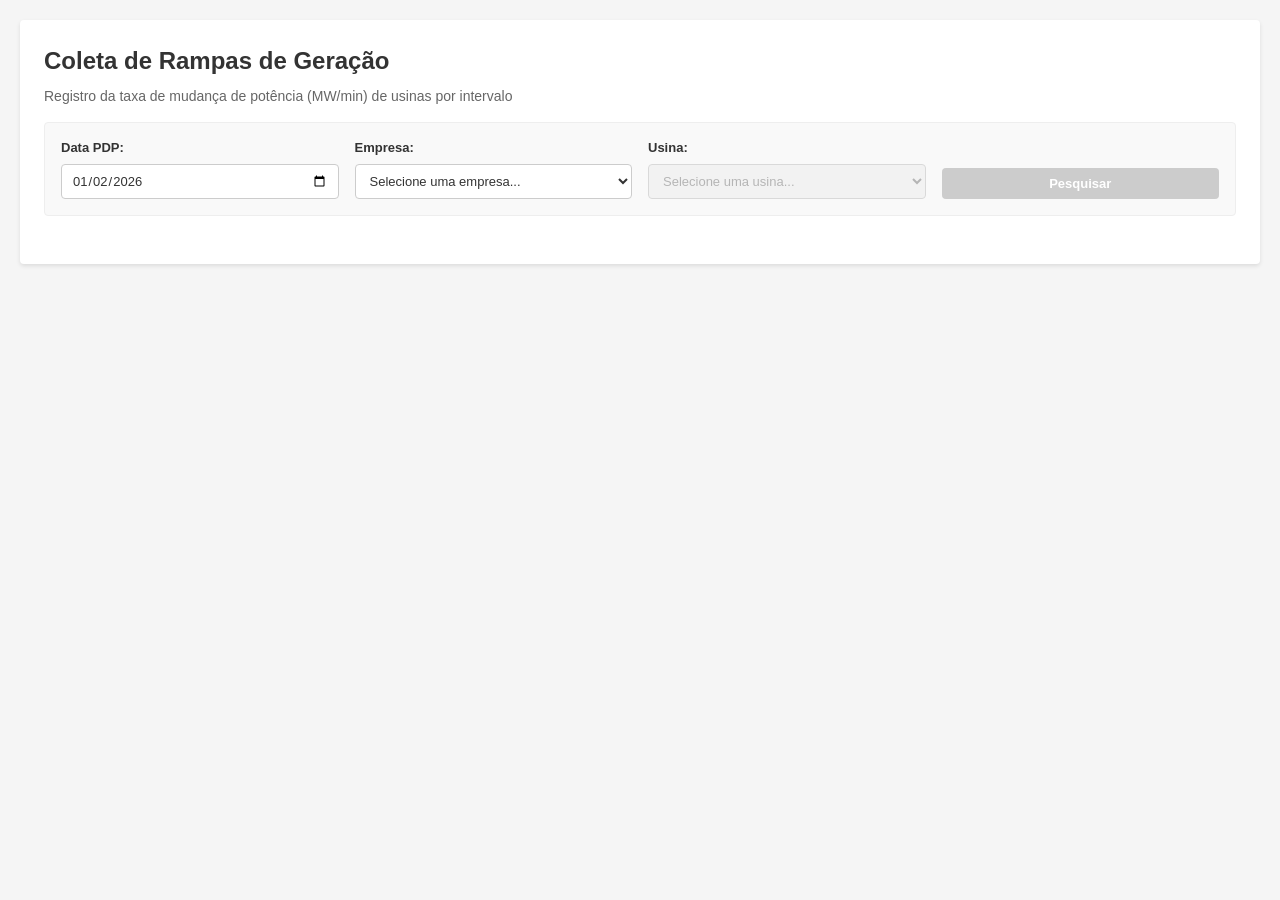
Test: Ramp Component › should allow editing values and update total/media
Setup and Search
Select "Empresa Geradora A" in the dropdown with test id "company-filter" at (493, 181), box [354,164,632,199]
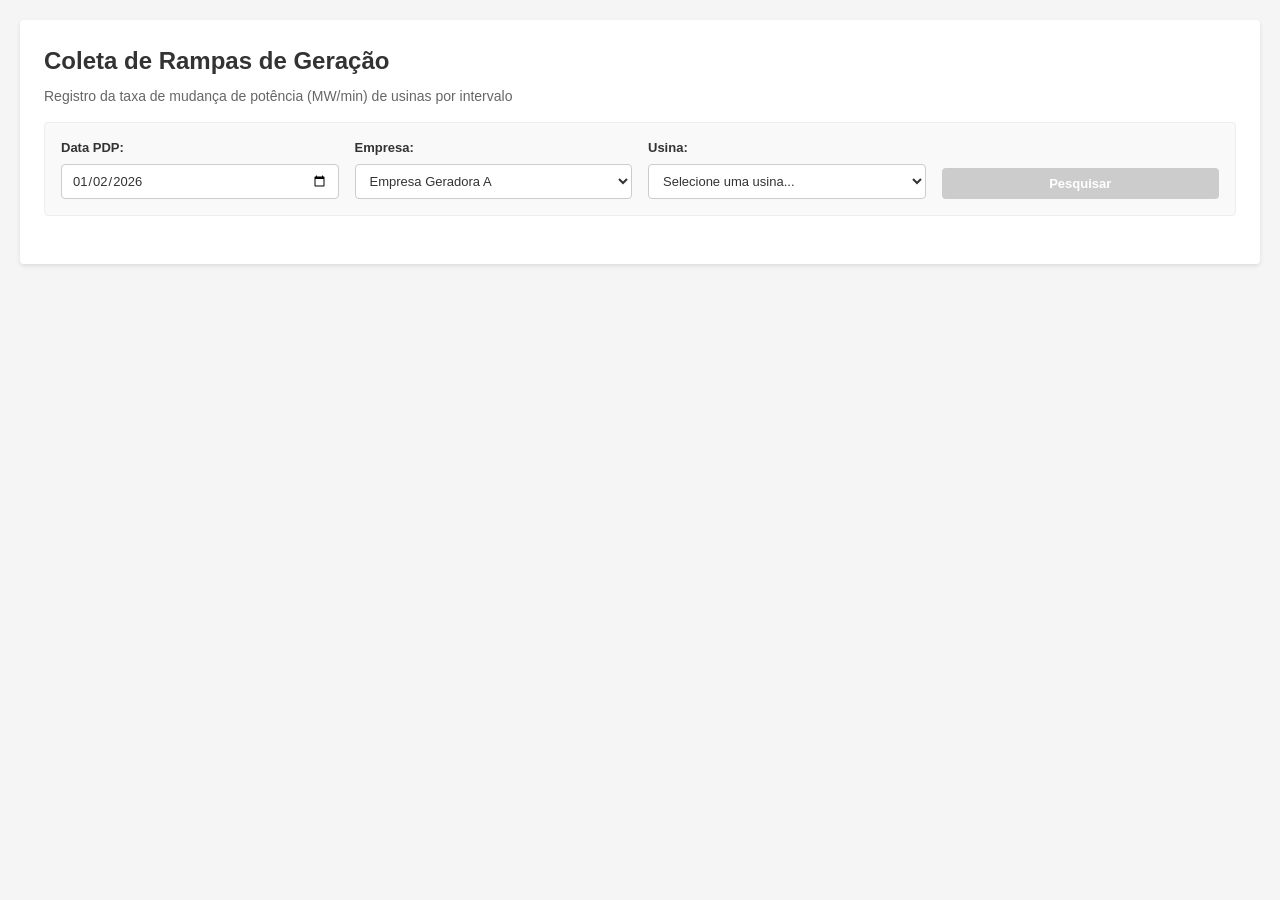
Result: the dropdown with test id "plant-filter" is enabled
Select "Usina Hidroelétrica 1" in the dropdown with test id "plant-filter" at (787, 181), box [648,164,926,199]
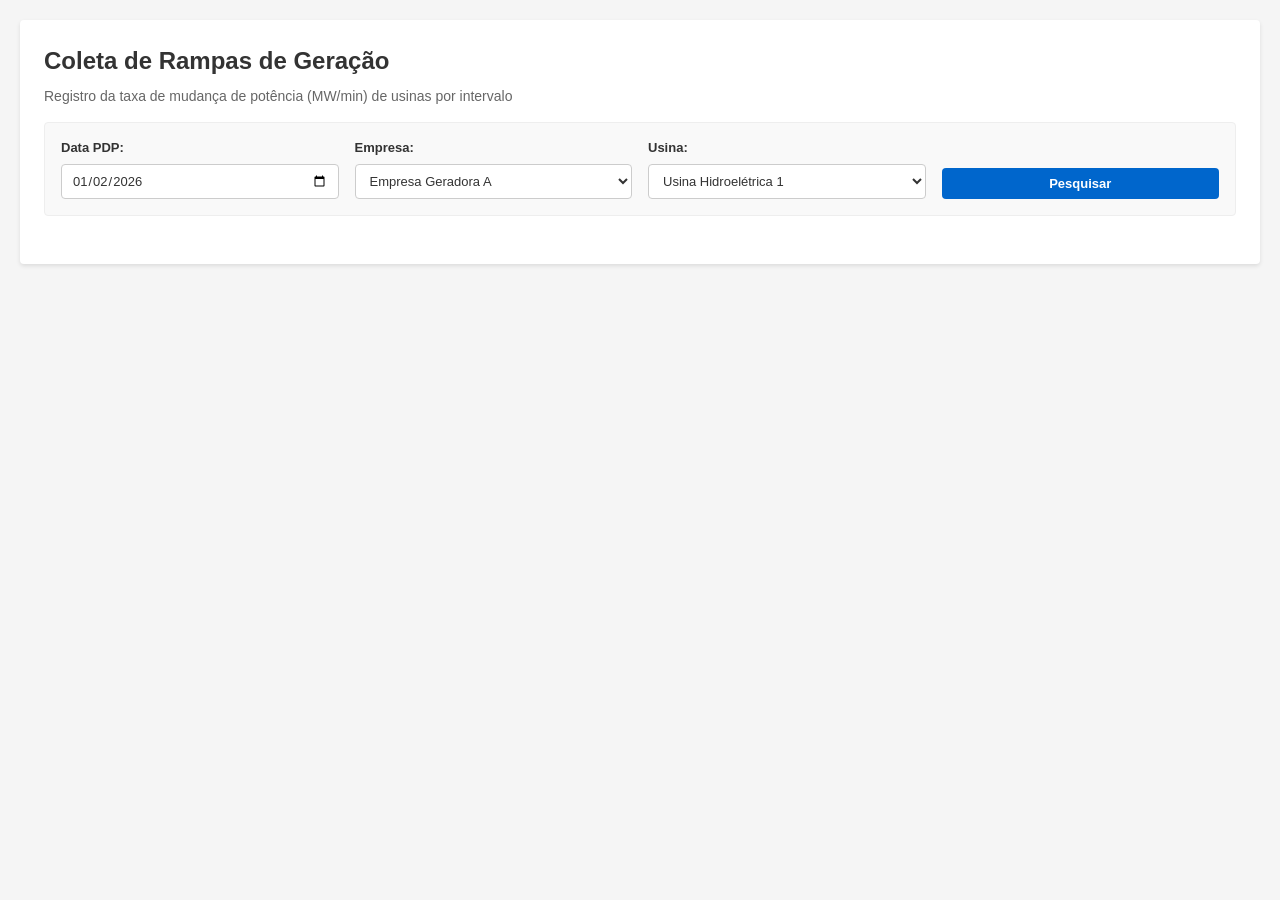
Click the button with test id "btn-search" at (1080, 183), box [942,168,1219,199]
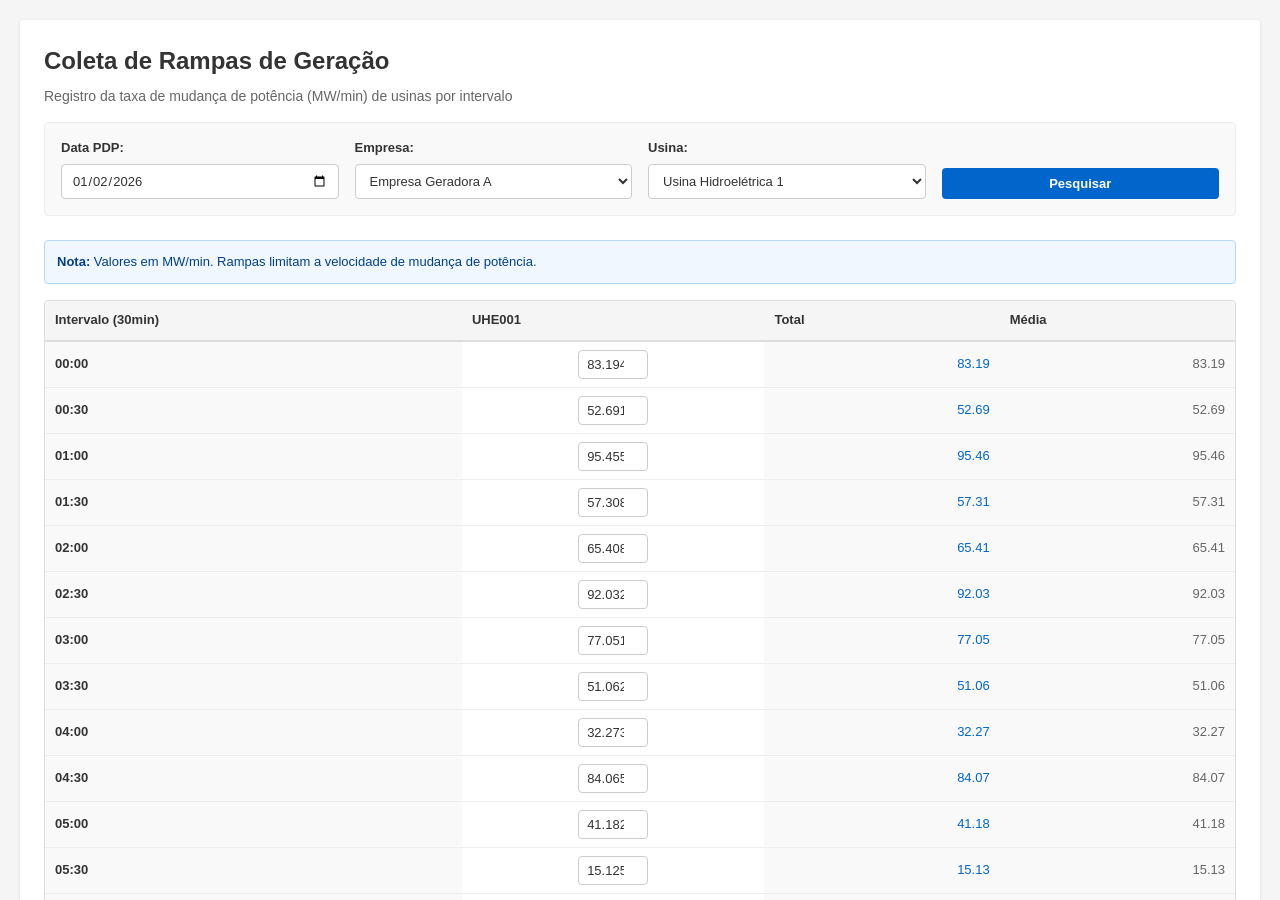
Change value
Replace the text in the number field with test id "input-1-UHE001" with "50" at (613, 364), box [578,350,648,379]
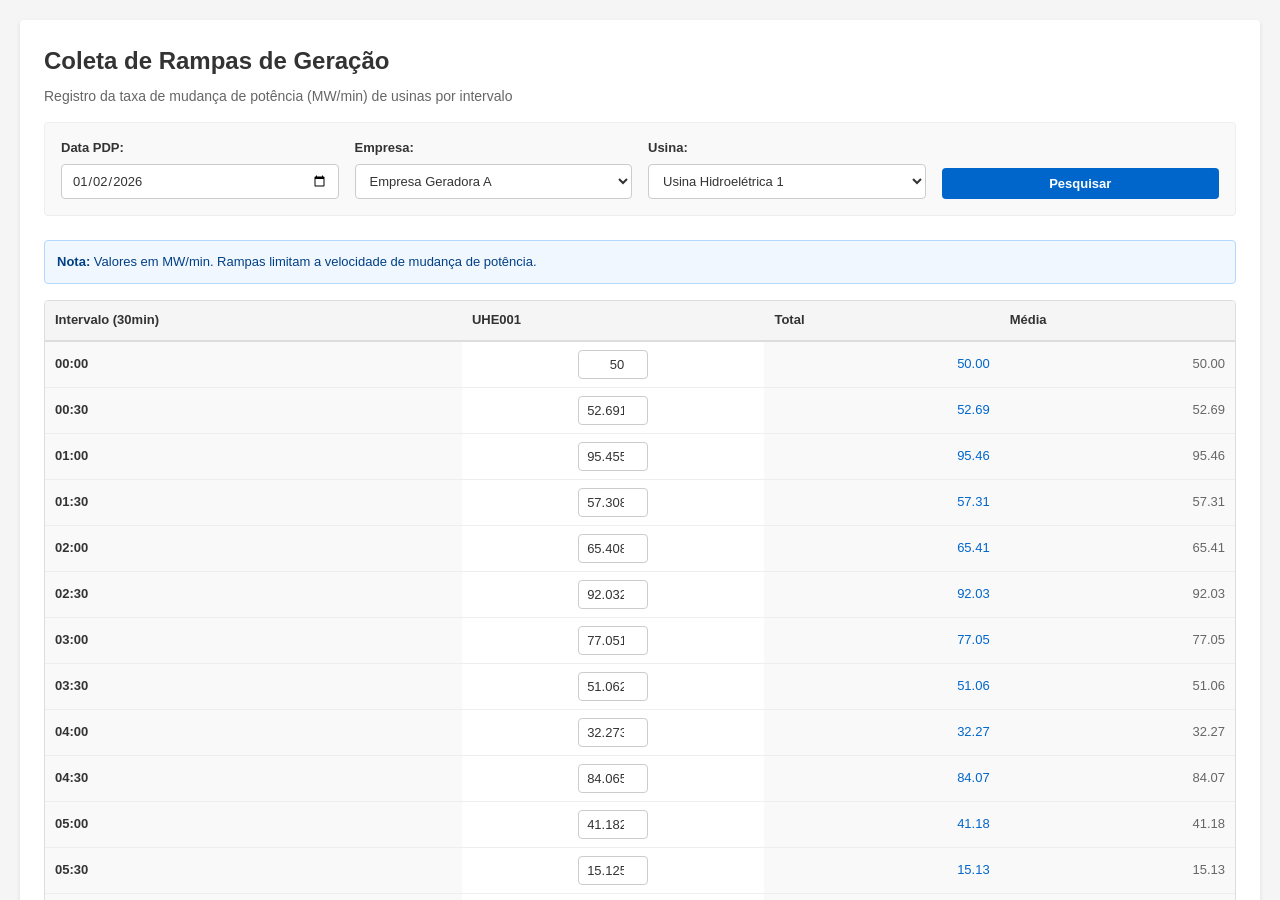
Result: the cell with test id "total-1" reads "50.00" at [957,356,990,371]
Result: the cell with test id "media-1" reads "50.00" at [1192,356,1225,371]
